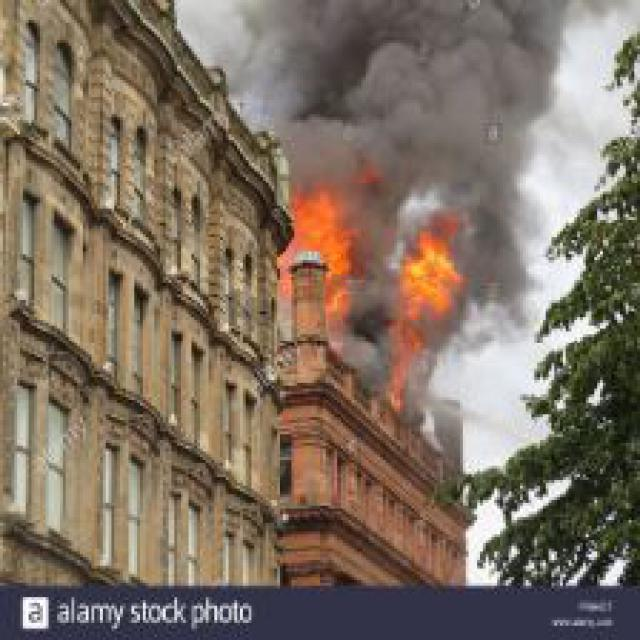fire: (291, 154, 466, 400)
